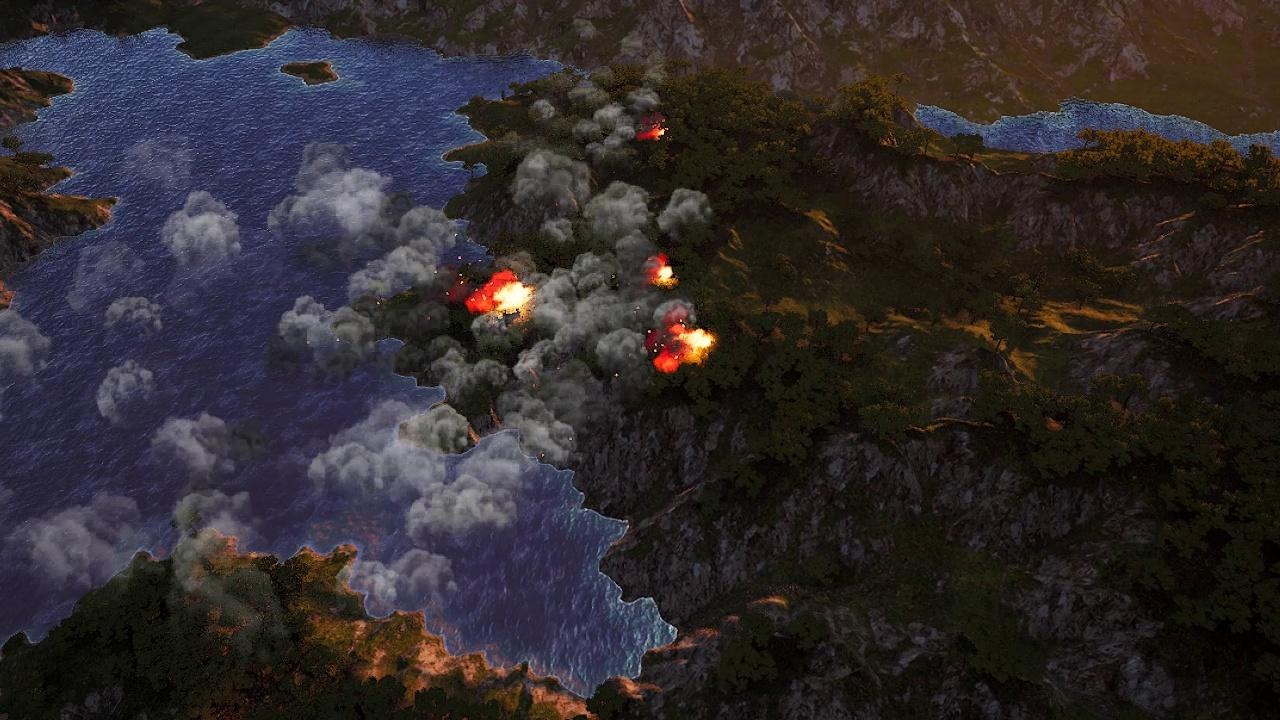fire: (655, 323, 719, 374), (470, 278, 532, 319), (649, 260, 673, 287), (642, 122, 666, 142)
smoke: (0, 82, 716, 617)
